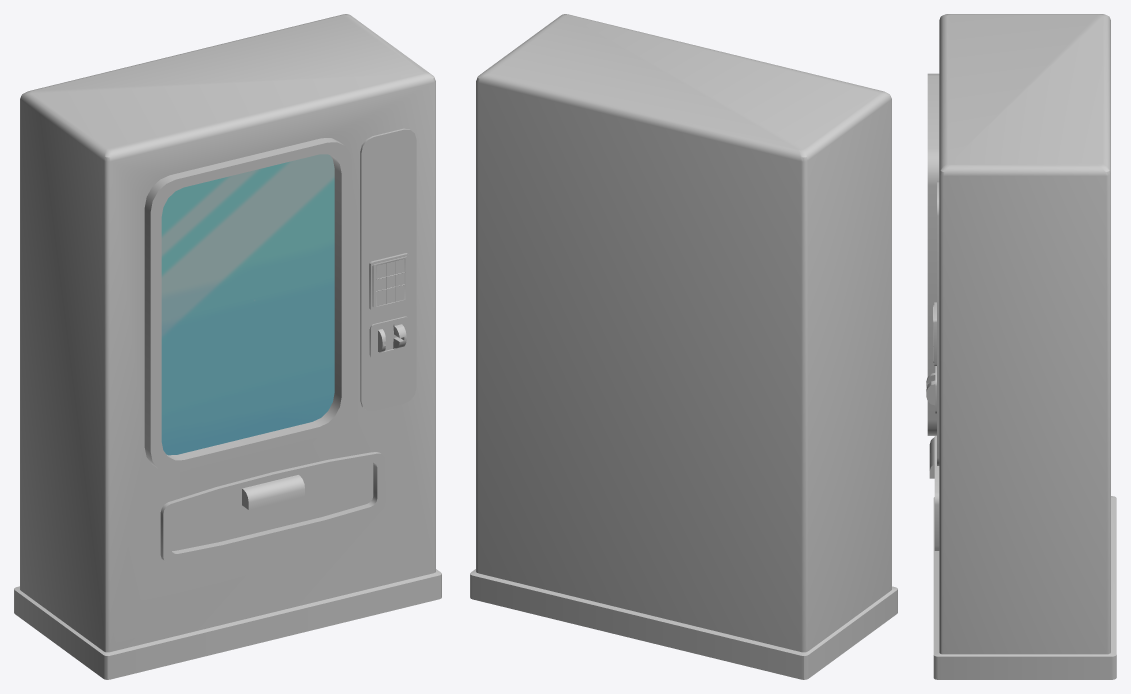
File: Bending.fbx
3 renders of one model, left to right at view 1: azimuth 30°, elevation 25°; view 2: azimuth 150°, elevation 25°; view 3: azimuth 270°, elevation 25°, orthographic. The views are drawn at different scales.
Visible parts, largest first — view 1: VendingMachine_Main, Glass; view 2: VendingMachine_Main; view 3: VendingMachine_Main.
Part boxes in pixels (box(x1,y1,x2,y2)): VendingMachine_Main: box(14, 14, 441, 679); Glass: box(161, 154, 334, 455); VendingMachine_Main: box(470, 14, 897, 679); VendingMachine_Main: box(926, 14, 1116, 679).
Bounding box in the file's own units: 217 × 321 × 109.
